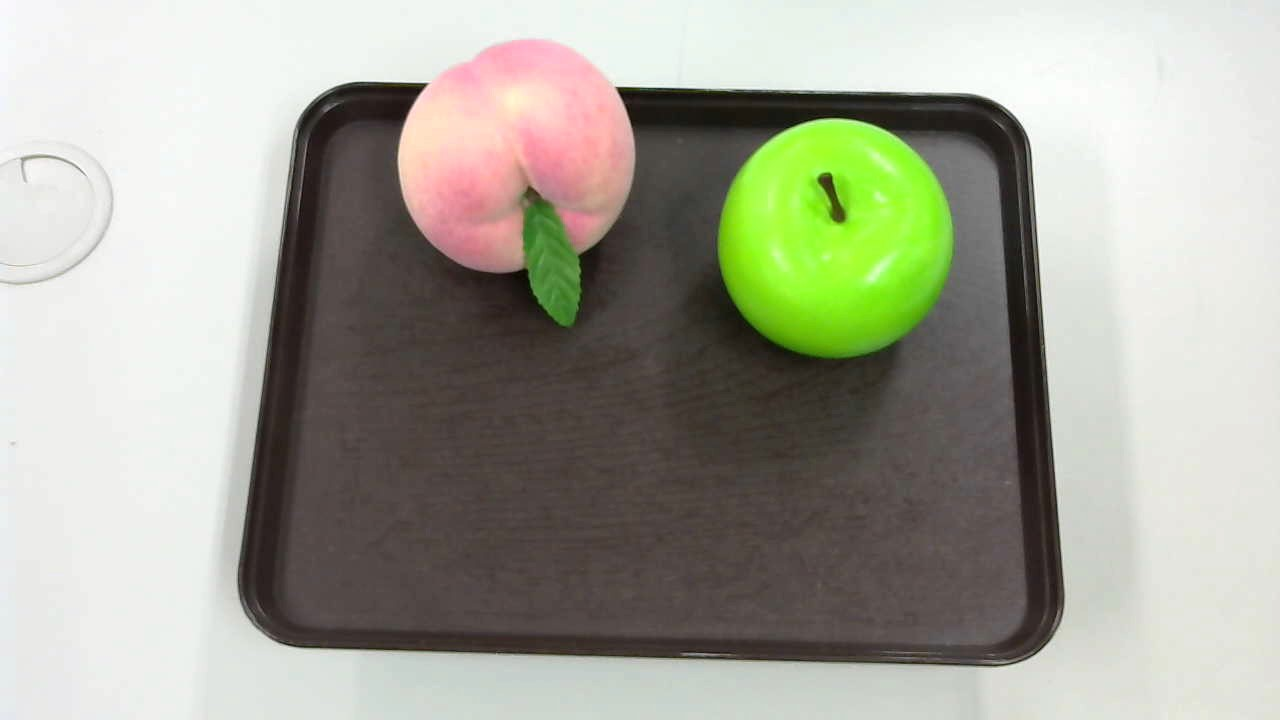green apple: (710, 118, 954, 362)
peach: (395, 37, 640, 325)
